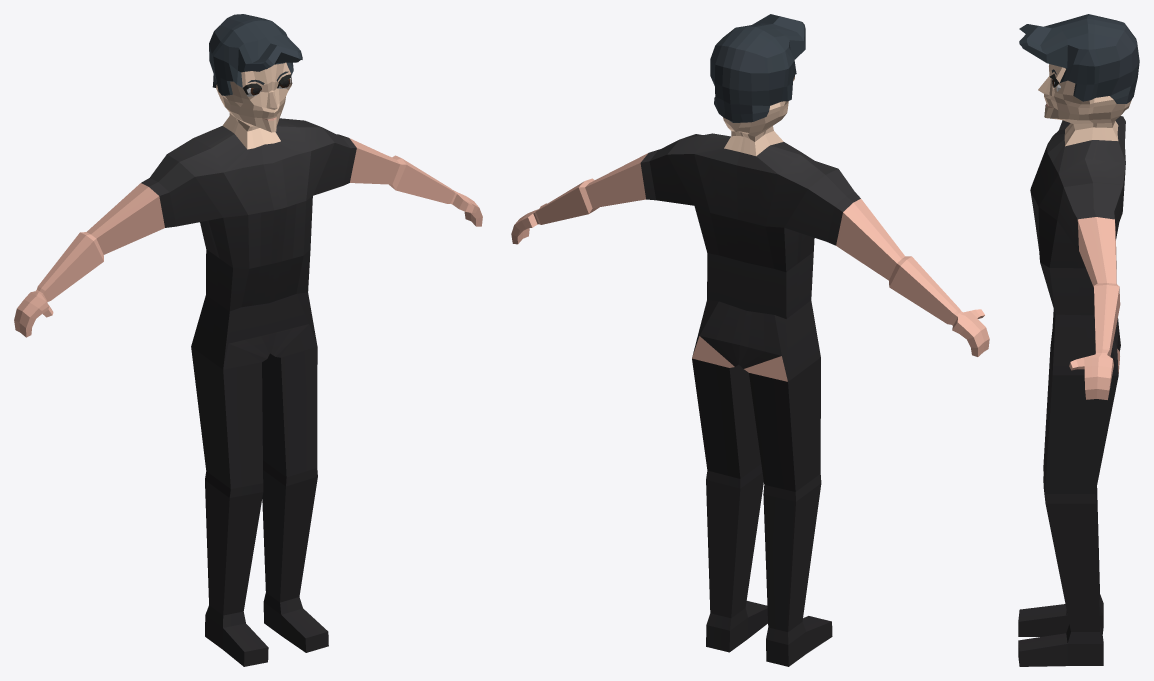
Rendered from JoshCharacterSEMRIG.fbx.
The picture shows the model from 3 angles, left to right: view 1: azimuth 30°, elevation 25°; view 2: azimuth 150°, elevation 25°; view 3: azimuth 270°, elevation 25°; orthographic projection. The views are drawn at different scales.
Visible parts, largest first — view 1: body; view 2: body; view 3: body.
Part boxes in pixels (x1,y1,x2,y2): body: (14,14,482,666); body: (511,14,989,666); body: (1018,14,1139,666).
Bounding box in the file's own units: 166 × 212 × 37.1.
